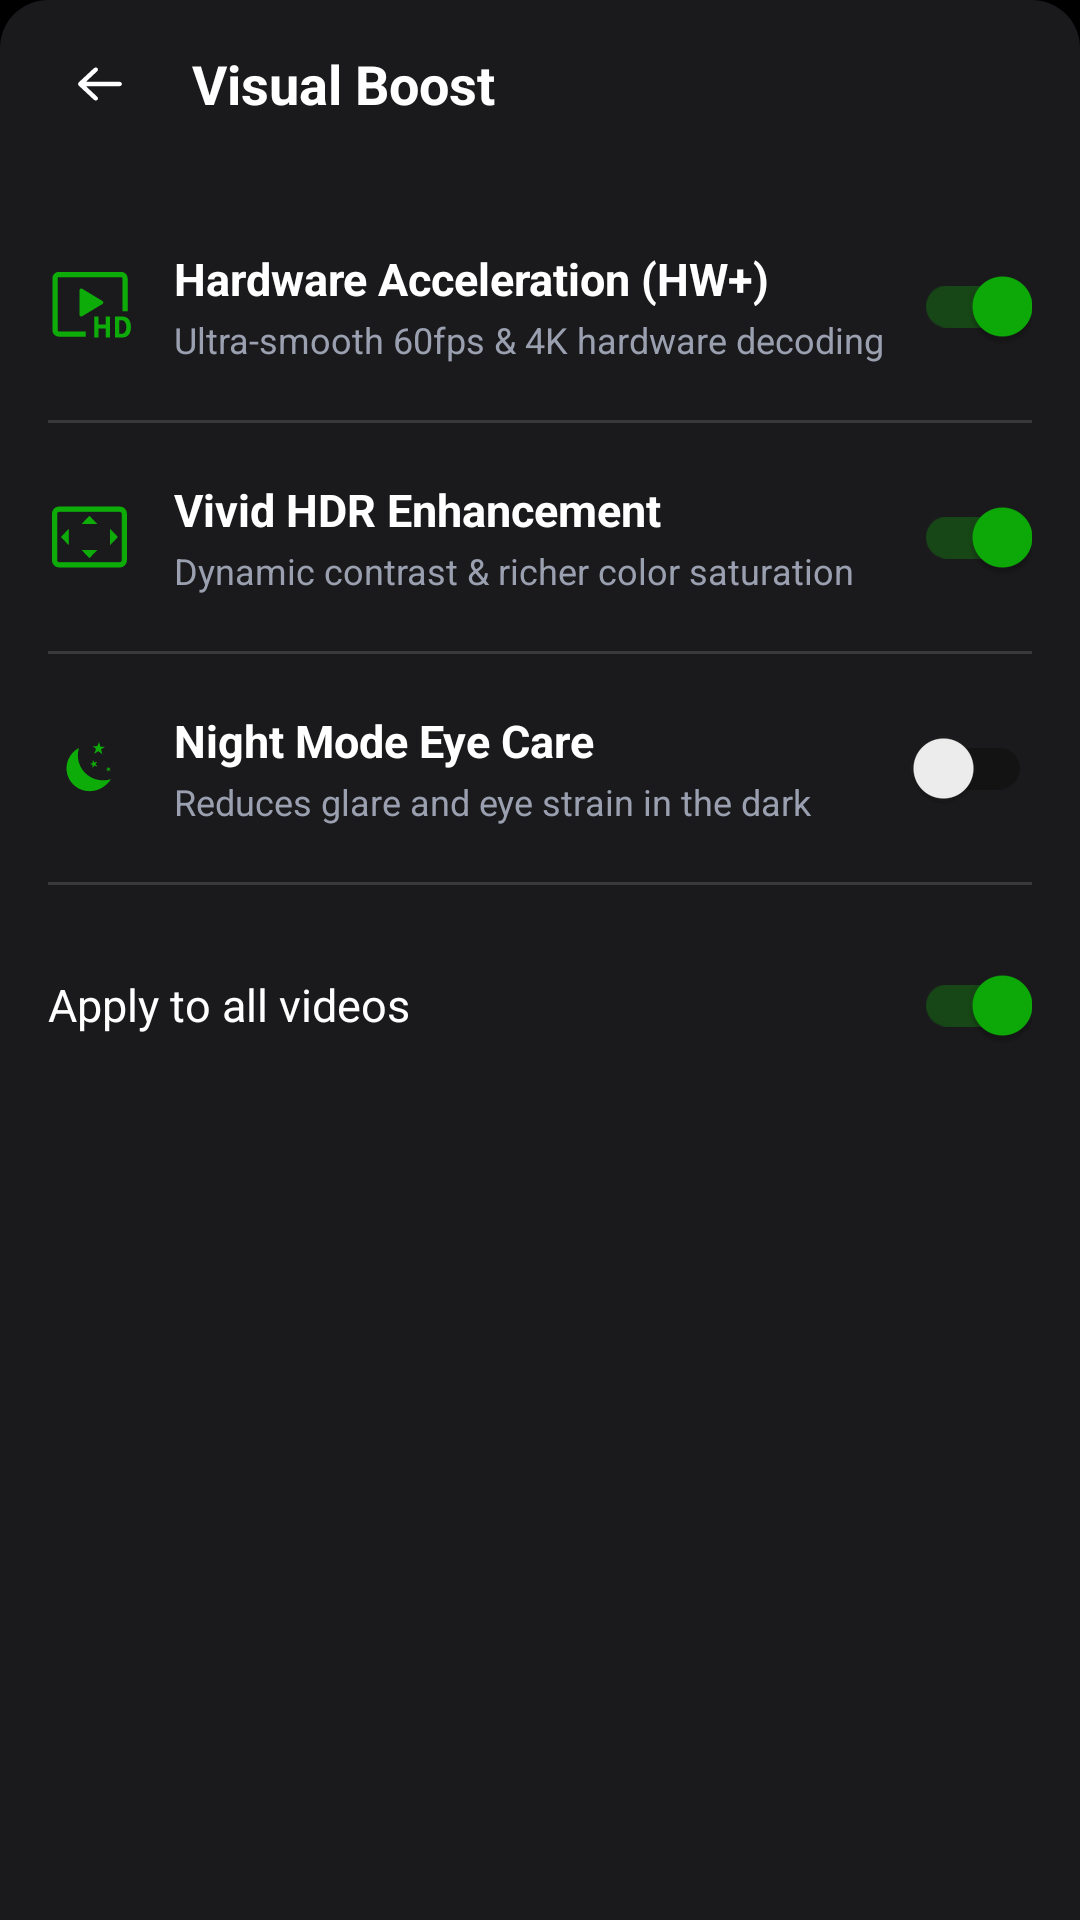

Icon bounding boxes for this 1080px×1920px phone screenshot, format rect(x1, y1, x2, y2):
back: rect(78, 67, 122, 101)
